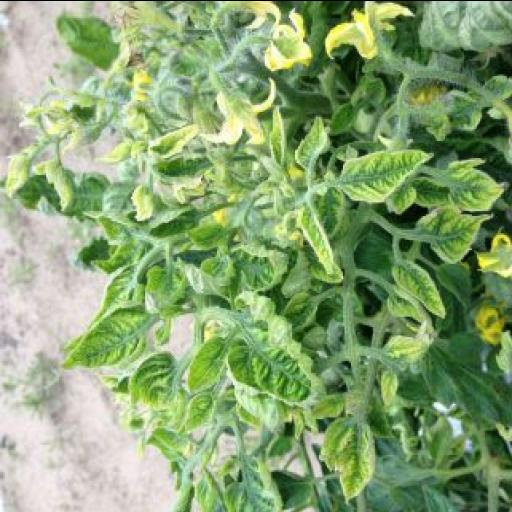disease_tomato: (226, 290, 312, 402), (60, 302, 156, 369), (316, 414, 376, 504), (336, 148, 432, 202), (417, 204, 495, 264), (217, 446, 284, 512), (442, 156, 508, 210), (88, 264, 144, 324), (182, 333, 233, 397), (392, 257, 444, 319), (228, 242, 290, 290), (298, 202, 336, 274), (129, 353, 180, 406), (141, 122, 198, 164), (182, 252, 234, 296), (145, 260, 186, 312), (86, 204, 136, 246), (293, 114, 329, 167), (265, 103, 291, 170), (182, 220, 232, 248), (380, 332, 429, 356)
